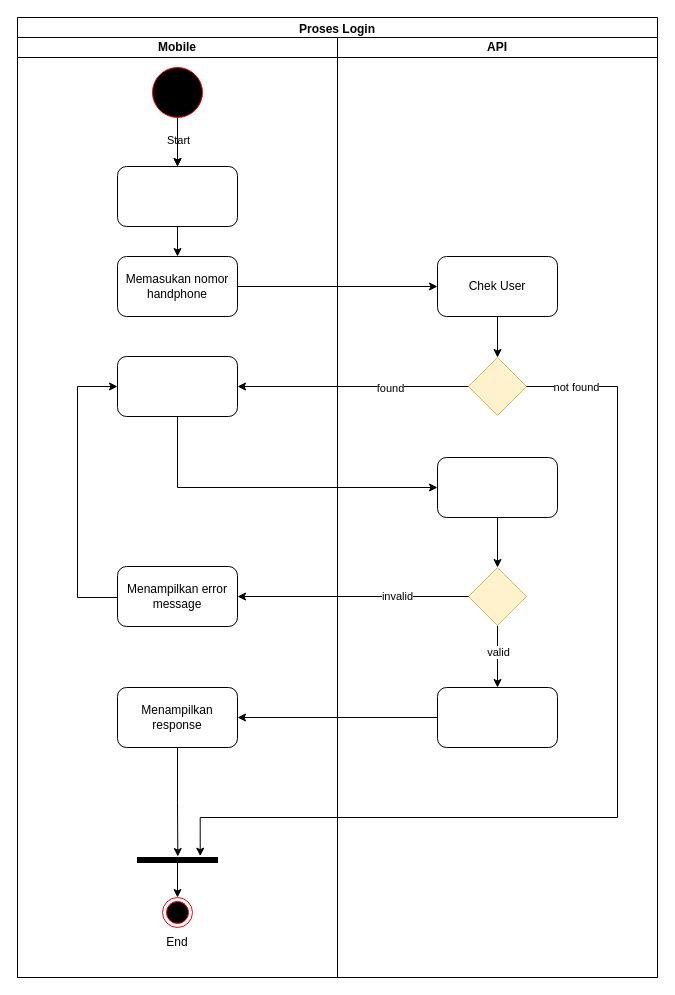
Image size: 675x995. Some labels were removed from this diagram. The shapes that lost their labels are listed below. From the top down, each one's centre as x and y in pixels, then its label:
At [177,196]: "Menekan tombol lanjutkan".
At [177,386]: "Memasukan PIN".
At [497,487]: "Validasi Input".
At [497,717]: "generate access token".
